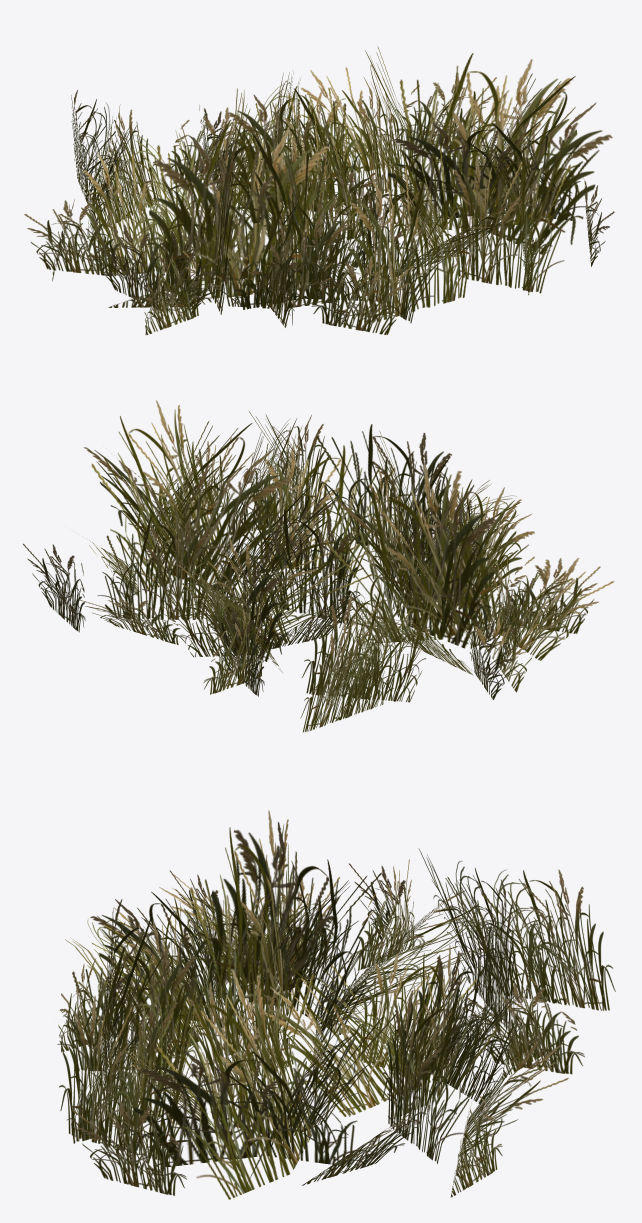
The model's file is dry_grass_large.glb.
3 renders of one model, top to bottom at view 1: azimuth 30°, elevation 25°; view 2: azimuth 150°, elevation 25°; view 3: azimuth 270°, elevation 25°, orthographic. The views are drawn at different scales.
Parts seen in each view (by area): view 1: grass1.001; view 2: grass1.001; view 3: grass1.001.
Part boxes in pixels (x1=…): grass1.001: x1=24, y1=46, x2=614, y2=335; grass1.001: x1=23, y1=400, x2=614, y2=732; grass1.001: x1=57, y1=810, x2=615, y2=1199.
Size of the model in its own units: 6.54 by 2.46 by 5.69.
Materials: 1 (1 with a texture image).
